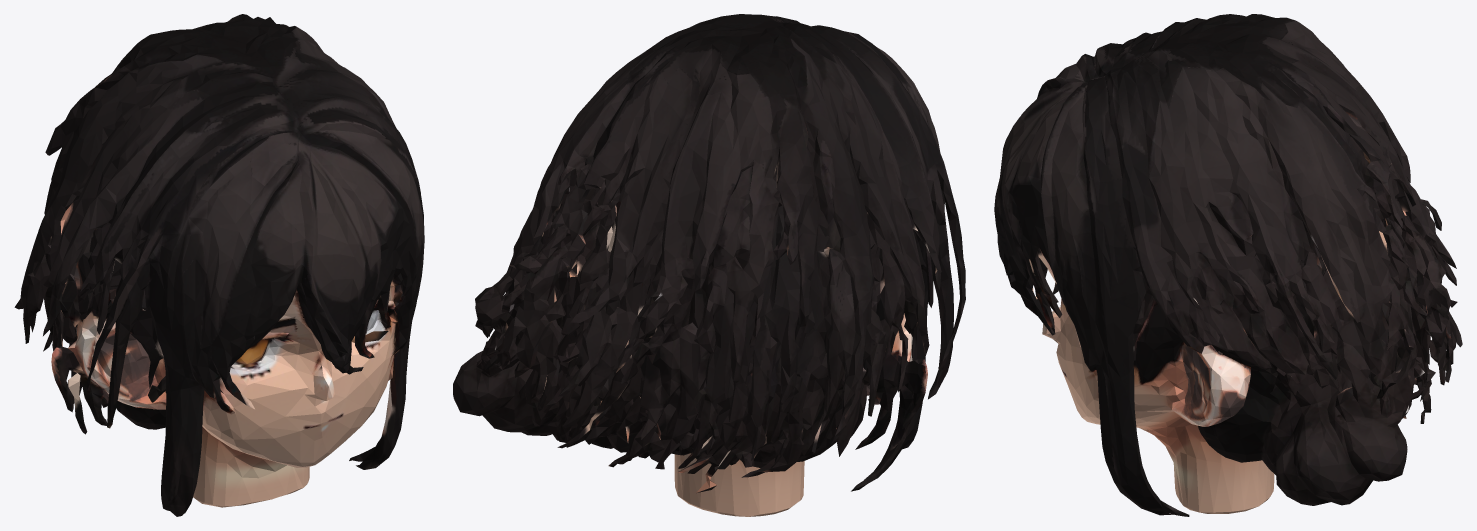
File: side_kyumi_repaired_atlas.glb
3 views of the same model, side by side, from view 1: azimuth 30°, elevation 25°; view 2: azimuth 150°, elevation 25°; view 3: azimuth 270°, elevation 25° (orthographic). The views are drawn at different scales.
Parts seen in each view (by area): view 1: temp_mesh.ply; view 2: temp_mesh.ply; view 3: temp_mesh.ply.
Part boxes in pixels (x1,y1,x2,y2): temp_mesh.ply: (14,14,424,516); temp_mesh.ply: (453,14,965,516); temp_mesh.ply: (994,14,1462,516).
Bounding box in the file's own units: 1.12 × 1.22 × 1.15.
Materials: 1 (1 with a texture image).
